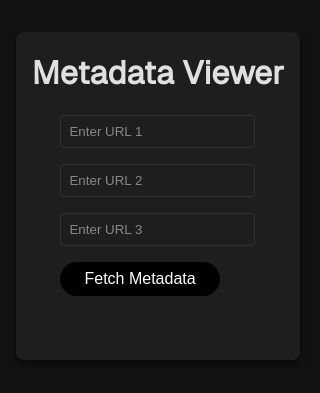
App Component › shows loading state during fetch
Type "https://example.com" into the field with placeholder "Enter URL 1".
click(158, 132); type("https://example.com")  # box [60,115,256,148]
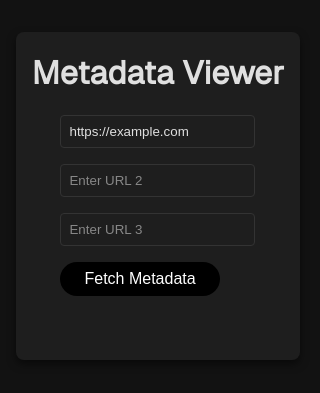
Type "https://example.com" into the field with placeholder "Enter URL 2".
click(158, 181); type("https://example.com")  # box [60,164,256,197]
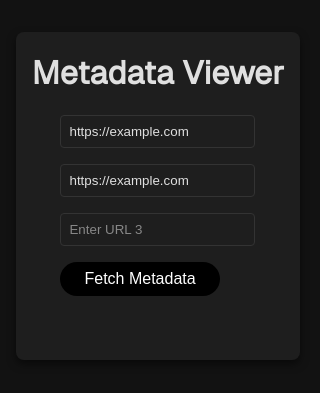
Type "https://example.com" into the field with placeholder "Enter URL 3".
click(158, 230); type("https://example.com")  # box [60,213,256,246]
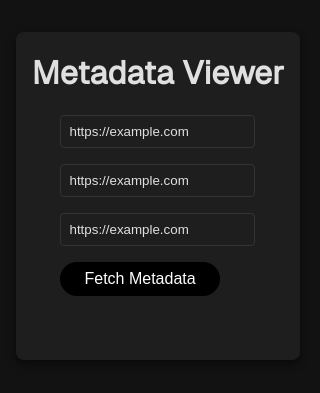
Click the button "Fetch Metadata".
click(140, 279)  # box [60,262,220,296]
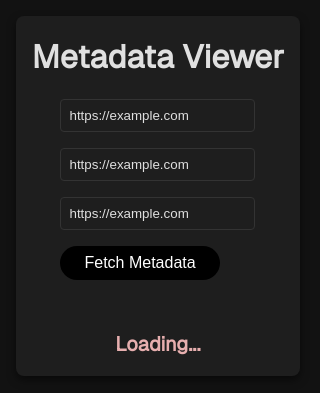
expect the text "Loading..." is shown: met, box [115,328,201,360]
